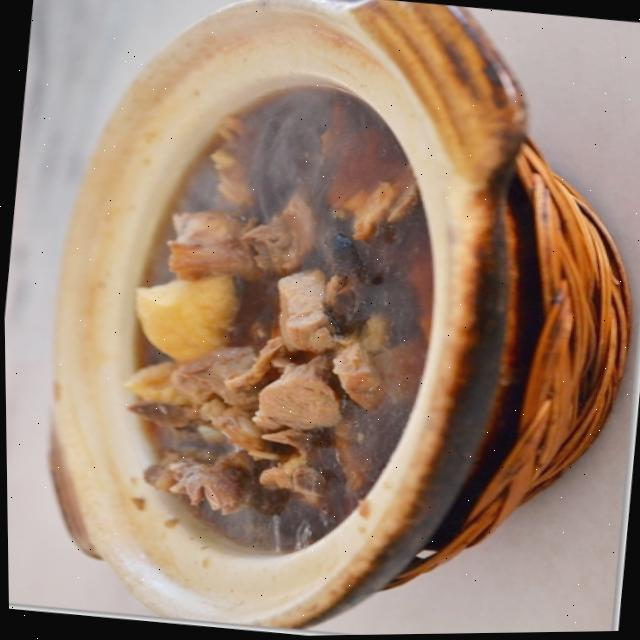汤锅炖物: (41, 6, 514, 618)
